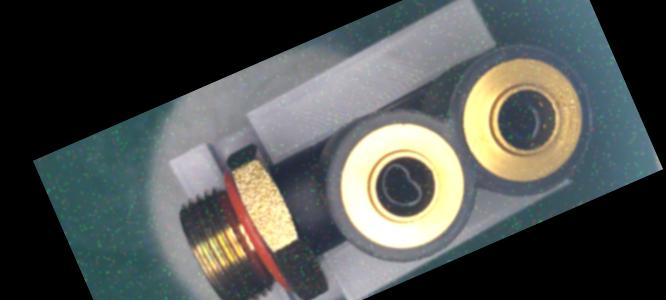off-centered: (369, 151, 433, 219), (493, 92, 551, 155)
